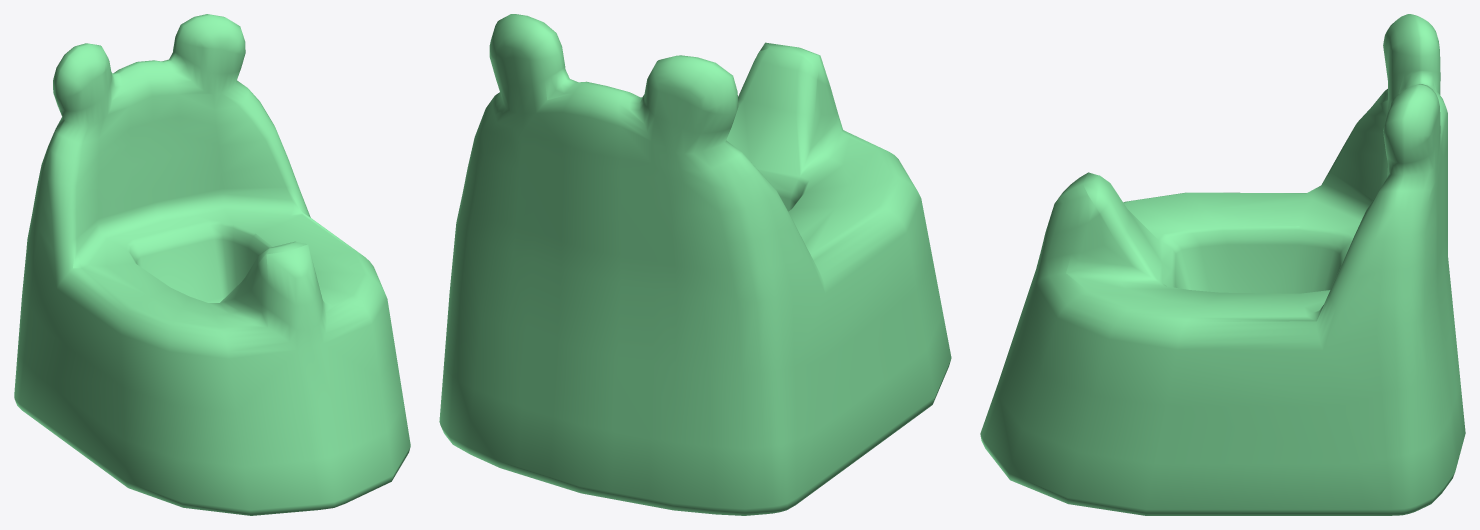
Rendered from Potta2.fbx.
3 renders of one model, left to right at view 1: azimuth 30°, elevation 25°; view 2: azimuth 150°, elevation 25°; view 3: azimuth 270°, elevation 25°, orthographic. The views are drawn at different scales.
Visible parts, largest first — view 1: Cube; view 2: Cube; view 3: Cube.
Boxes of the visible parts, bbox=[...] form: Cube: bbox=[14, 14, 410, 515]; Cube: bbox=[439, 14, 951, 515]; Cube: bbox=[980, 14, 1465, 515].
Bounding box in the file's own units: 51.92 × 62.16 × 70.08.
